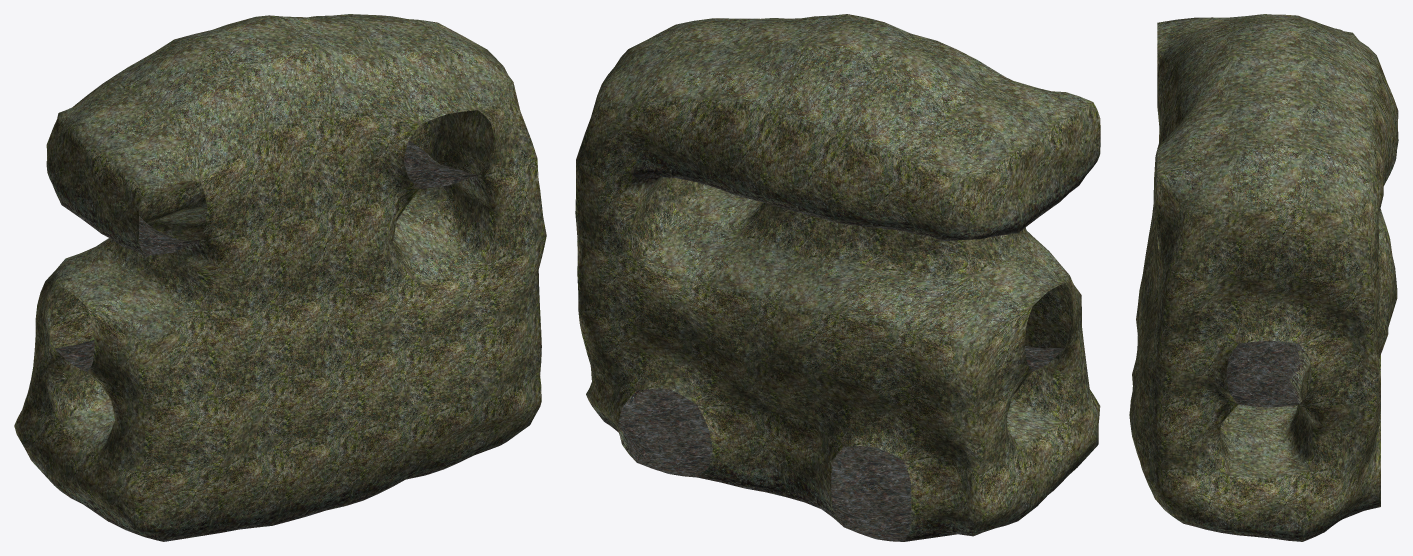
Rendered from thm_all_cave_s03_damprock_mirror_r9_r9.fbx.
3 renders of one model, left to right at view 1: azimuth 30°, elevation 25°; view 2: azimuth 150°, elevation 25°; view 3: azimuth 270°, elevation 25°, orthographic. The views are drawn at different scales.
Visible parts, largest first — view 1: mesh_node; view 2: mesh_node; view 3: mesh_node.
Part boxes in pixels (<box>): mesh_node: <box>14,14,546,541</box>; mesh_node: <box>575,14,1100,541</box>; mesh_node: <box>1129,14,1398,541</box>.
Size of the model in its own units: 50.64 by 50.06 by 28.87.
